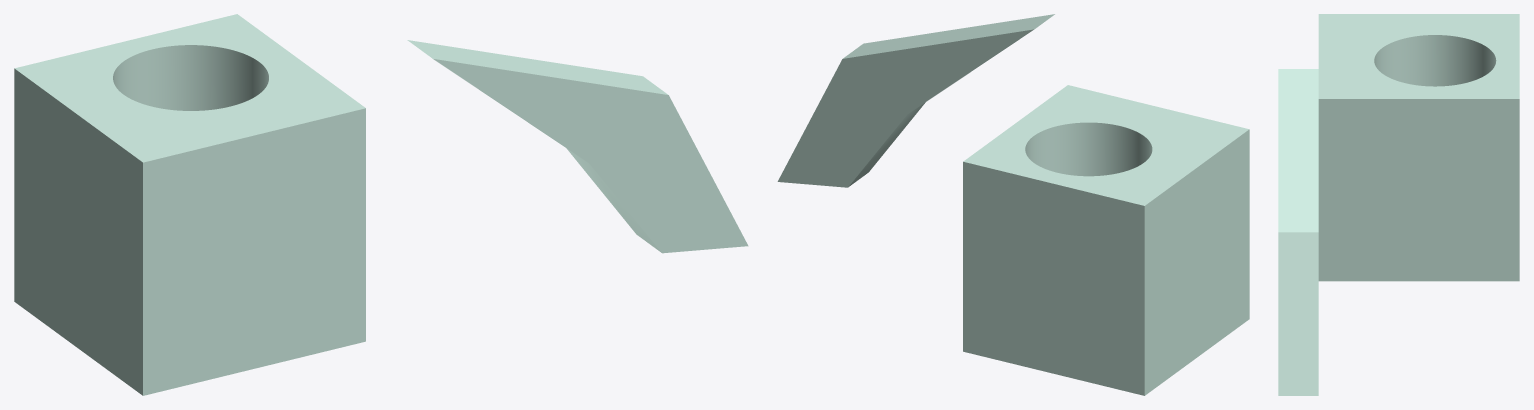
The picture shows the model from 3 angles, left to right: view 1: azimuth 30°, elevation 25°; view 2: azimuth 150°, elevation 25°; view 3: azimuth 270°, elevation 25°; orthographic projection. The views are drawn at different scales.
Parts seen in each view (by area): view 1: Renderer Node; view 2: Renderer Node; view 3: Renderer Node.
Part boxes in pixels (<box>): Renderer Node: <box>14,14,748,395</box>; Renderer Node: <box>777,14,1249,395</box>; Renderer Node: <box>1278,14,1519,395</box>.
Size of the model in its own units: 1.22 by 0.5859 by 0.5625.
